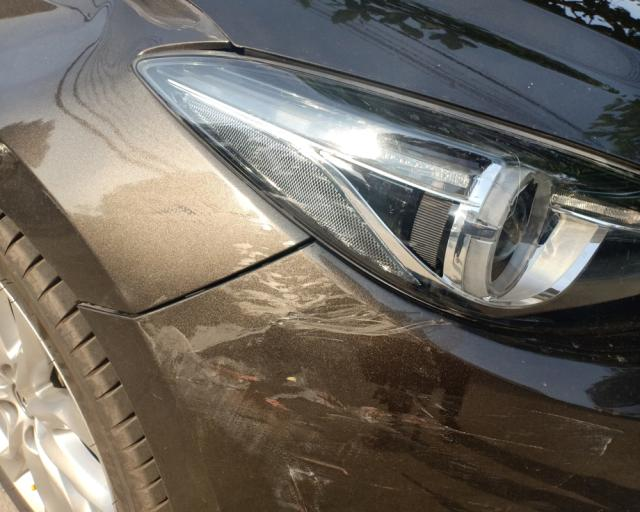scratch: (136, 251, 629, 512)
